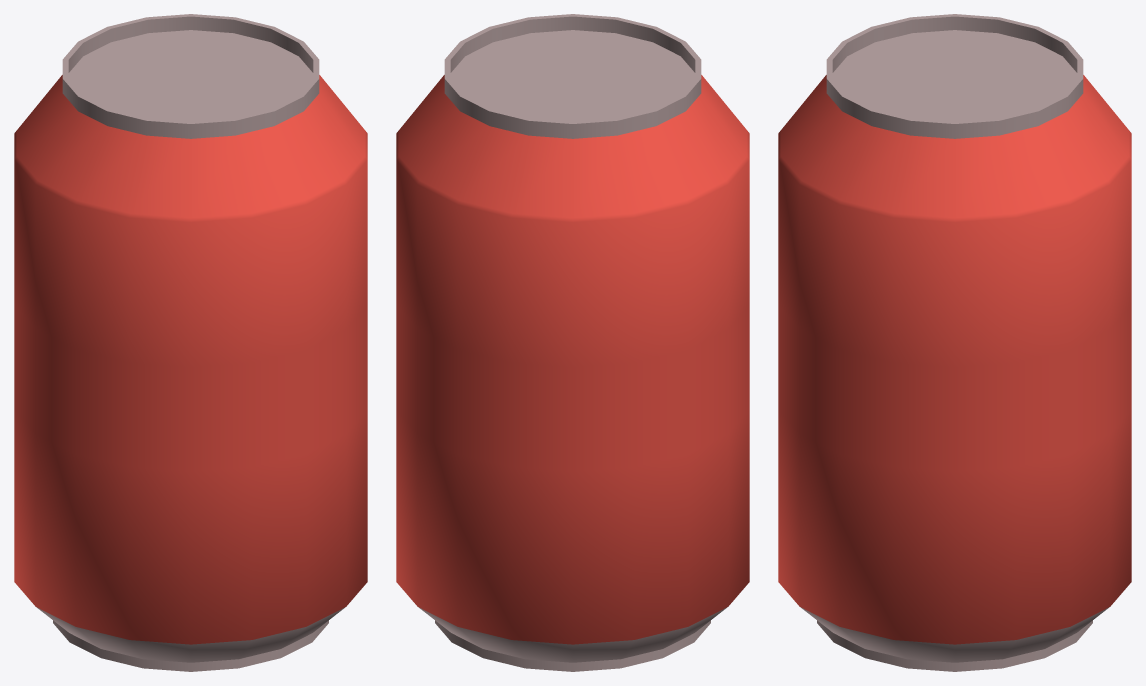
Rendered from P_canette_1.fbx.
3 renders of one model, left to right at view 1: azimuth 30°, elevation 25°; view 2: azimuth 150°, elevation 25°; view 3: azimuth 270°, elevation 25°, orthographic.
Parts seen in each view (by area): view 1: Cylinder001; view 2: Cylinder001; view 3: Cylinder001.
Part boxes in pixels (x1,y1,x2,y2): Cylinder001: (14,14,367,671); Cylinder001: (396,14,749,671); Cylinder001: (778,14,1131,671).
Bounding box in the file's own units: 3.04 × 5.08 × 2.99.
